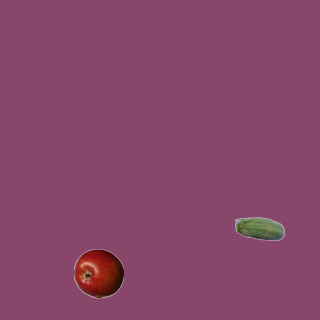Apple Braeburn: (73, 248, 123, 298)
Corn Husk: (234, 205, 284, 255)
